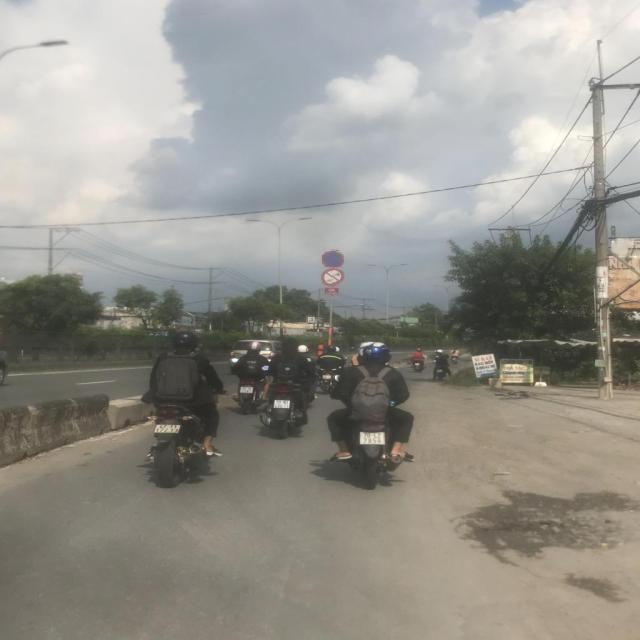cam_dung_xe_va_do_xe: (322, 249, 346, 267)
cam_xe_2_banh_va_xe_3_banh_co_dong_co: (321, 270, 345, 286)
